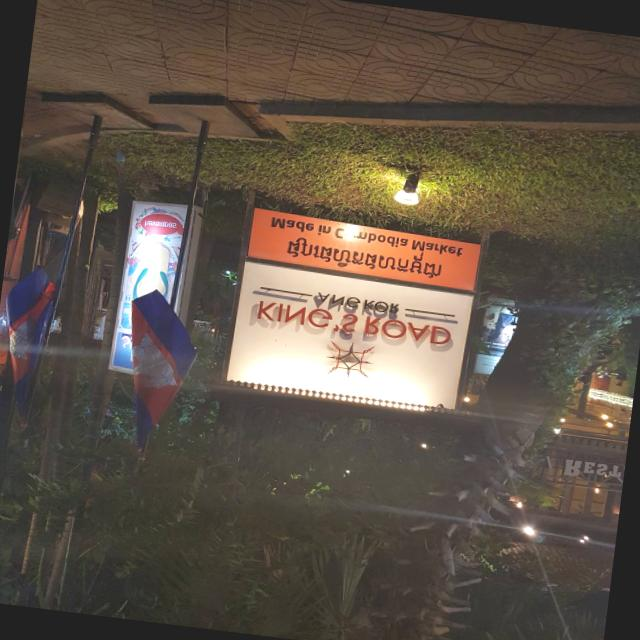Yolov11_80vkh: (280, 229, 445, 284)
